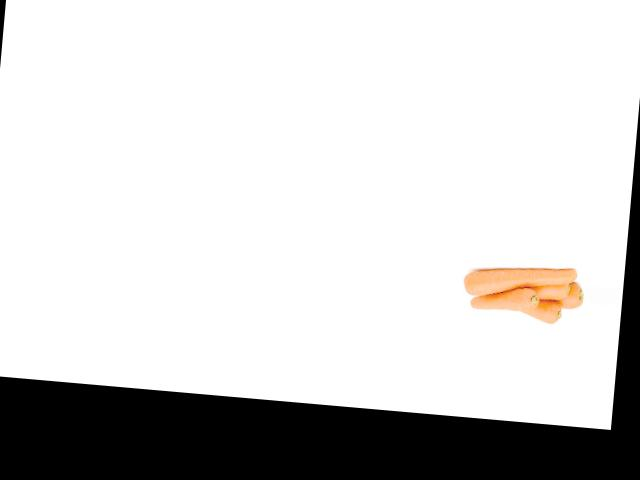carrot: (515, 295, 564, 323)
